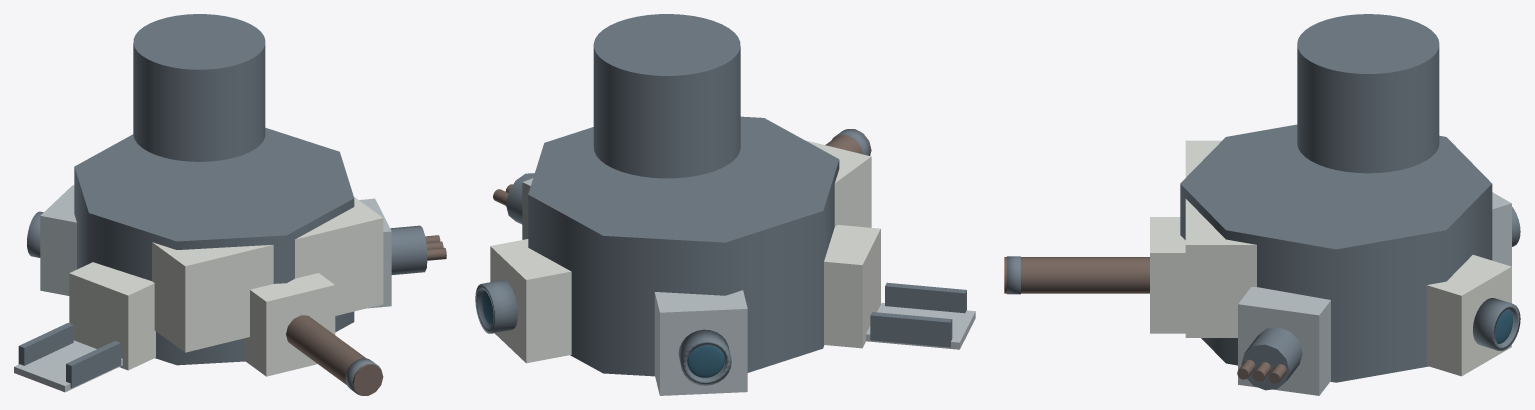
Rendered from curiosity_arm.shoulder_azimuth.shoulder_elevation.elbow.forearm.wrist.glb.
The picture shows the model from 3 angles, left to right: view 1: azimuth 30°, elevation 25°; view 2: azimuth 150°, elevation 25°; view 3: azimuth 270°, elevation 25°; orthographic projection. The views are drawn at different scales.
Parts seen in each view (by area): view 1: curiosity_turret.mesh_Machined_steel, curiosity_arm.shoulder_azimuth.shoulder_elevation.elbow.fore, curiosity_turret.mesh_Pale_thermal_blanket, curiosity_turret.chimra.mesh_Pale_thermal_blanket, curiosity_turret.drill.mesh_Pale_thermal_blanket, curiosity_turret.apxs.mesh_Satin_aluminum, curiosity_turret.drill.mesh_Heat-stained_alloy, curiosity_turret.chimra.mesh_Machined_steel, curiosity_turret.chimra.mesh_Satin_aluminum, curiosity_turret.drt.mesh_Machined_steel, curiosity_turret.drt.mesh_Satin_aluminum, curiosity_turret.apxs.aperture.mesh_Machined_steel (+1 smaller); view 2: curiosity_turret.mesh_Machined_steel, curiosity_arm.shoulder_azimuth.shoulder_elevation.elbow.fore, curiosity_turret.mahli.mesh_Pale_thermal_blanket, curiosity_turret.apxs.mesh_Satin_aluminum, curiosity_turret.chimra.mesh_Pale_thermal_blanket, curiosity_turret.chimra.mesh_Machined_steel, curiosity_turret.mesh_Pale_thermal_blanket, curiosity_turret.mahli.aperture.mesh_Machined_steel, curiosity_turret.apxs.aperture.mesh_Machined_steel, curiosity_turret.chimra.mesh_Satin_aluminum, curiosity_turret.apxs.aperture.lens.mesh_Coated_optical_glas, curiosity_turret.drt.mesh_Machined_steel (+2 smaller); view 3: curiosity_turret.mesh_Machined_steel, curiosity_arm.shoulder_azimuth.shoulder_elevation.elbow.fore, curiosity_turret.mesh_Pale_thermal_blanket, curiosity_turret.mahli.mesh_Pale_thermal_blanket, curiosity_turret.drt.mesh_Satin_aluminum, curiosity_turret.drill.mesh_Heat-stained_alloy, curiosity_turret.drill.mesh_Pale_thermal_blanket, curiosity_turret.drt.mesh_Machined_steel, curiosity_turret.mahli.aperture.mesh_Machined_steel, curiosity_turret.apxs.mesh_Satin_aluminum, curiosity_turret.drt.mesh_Heat-stained_alloy, curiosity_turret.drill.mesh_Machined_steel (+1 smaller).
Boxes of the visible parts, x1,y1,x2,y2 form: curiosity_turret.mesh_Machined_steel: [74, 127, 354, 365]; curiosity_arm.shoulder_azimuth.shoulder_elevation.elbow.fore: [133, 14, 265, 161]; curiosity_turret.mesh_Pale_thermal_blanket: [152, 197, 383, 352]; curiosity_turret.chimra.mesh_Pale_thermal_blanket: [69, 262, 155, 370]; curiosity_turret.drill.mesh_Pale_thermal_blanket: [244, 273, 335, 376]; curiosity_turret.apxs.mesh_Satin_aluminum: [40, 185, 76, 295]; curiosity_turret.drill.mesh_Heat-stained_alloy: [286, 315, 383, 395]; curiosity_turret.chimra.mesh_Machined_steel: [18, 323, 120, 388]; curiosity_turret.chimra.mesh_Satin_aluminum: [14, 340, 122, 392]; curiosity_turret.drt.mesh_Machined_steel: [390, 225, 427, 274]; curiosity_turret.drt.mesh_Satin_aluminum: [359, 198, 391, 308]; curiosity_turret.apxs.aperture.mesh_Machined_steel: [27, 211, 43, 257]; curiosity_turret.mesh_Machined_steel: [528, 116, 839, 376]; curiosity_arm.shoulder_azimuth.shoulder_elevation.elbow.fore: [593, 14, 740, 178]; curiosity_turret.mahli.mesh_Pale_thermal_blanket: [490, 239, 571, 363]; curiosity_turret.apxs.mesh_Satin_aluminum: [654, 290, 747, 395]; curiosity_turret.chimra.mesh_Pale_thermal_blanket: [824, 225, 880, 348]; curiosity_turret.chimra.mesh_Machined_steel: [870, 282, 966, 347]; curiosity_turret.mesh_Pale_thermal_blanket: [805, 140, 871, 227]; curiosity_turret.mahli.aperture.mesh_Machined_steel: [475, 280, 517, 333]; curiosity_turret.apxs.aperture.mesh_Machined_steel: [678, 329, 731, 385]; curiosity_turret.chimra.mesh_Satin_aluminum: [866, 302, 975, 349]; curiosity_turret.apxs.aperture.lens.mesh_Coated_optical_glas: [687, 345, 724, 377]; curiosity_turret.drt.mesh_Machined_steel: [506, 173, 534, 224]; curiosity_turret.mesh_Machined_steel: [1180, 124, 1492, 382]; curiosity_arm.shoulder_azimuth.shoulder_elevation.elbow.fore: [1297, 14, 1439, 173]; curiosity_turret.mesh_Pale_thermal_blanket: [1185, 140, 1256, 337]; curiosity_turret.mahli.mesh_Pale_thermal_blanket: [1426, 255, 1511, 376]; curiosity_turret.drt.mesh_Satin_aluminum: [1238, 287, 1330, 395]; curiosity_turret.drill.mesh_Heat-stained_alloy: [1004, 257, 1149, 293]; curiosity_turret.drill.mesh_Pale_thermal_blanket: [1150, 217, 1185, 333]; curiosity_turret.drt.mesh_Machined_steel: [1241, 327, 1302, 390]; curiosity_turret.mahli.aperture.mesh_Machined_steel: [1473, 298, 1520, 351]; curiosity_turret.apxs.mesh_Satin_aluminum: [1492, 192, 1511, 266]; curiosity_turret.drt.mesh_Heat-stained_alloy: [1237, 359, 1286, 383]; curiosity_turret.drill.mesh_Machined_steel: [1007, 256, 1020, 294].
Size of the model in its own units: 0.7668 by 0.44 by 0.7545.
